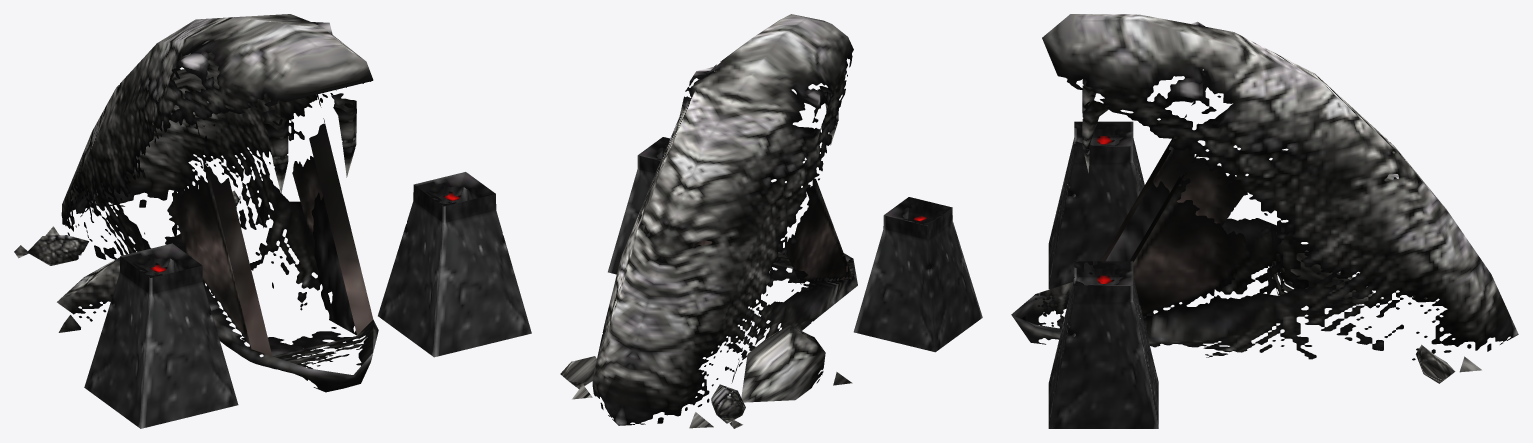
The model's file is DoungeonGate01.obj.
The picture shows the model from 3 angles, left to right: view 1: azimuth 30°, elevation 25°; view 2: azimuth 150°, elevation 25°; view 3: azimuth 270°, elevation 25°; orthographic projection. The views are drawn at different scales.
Visible parts, largest first — view 1: Mesh_0; view 2: Mesh_0; view 3: Mesh_0.
Part boxes in pixels (x1,y1,x2,y2): Mesh_0: (14, 14, 531, 428); Mesh_0: (560, 14, 982, 428); Mesh_0: (1011, 14, 1518, 428).
Size of the model in its own units: 4 by 3.24 by 4.61.
Materials: 1 (1 with a texture image).
